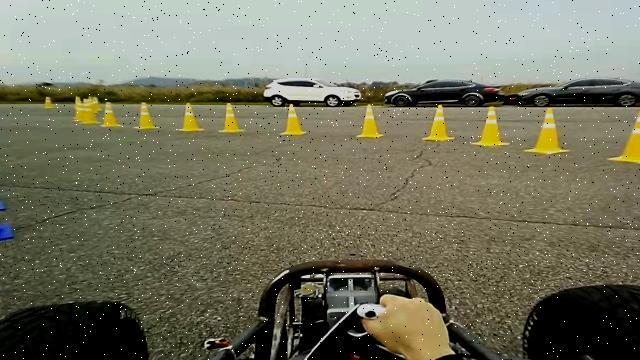yellow cone: (523, 107, 569, 154), (607, 110, 640, 164), (470, 105, 510, 146), (422, 104, 455, 141), (356, 104, 384, 138), (279, 103, 307, 135), (177, 102, 204, 132), (218, 102, 244, 133), (133, 101, 160, 129), (74, 96, 100, 124), (100, 100, 122, 127), (72, 96, 84, 121), (43, 96, 54, 108)
